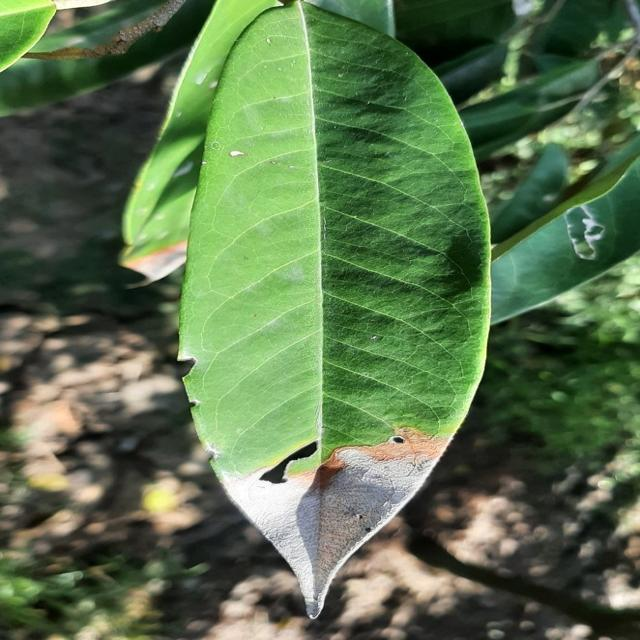Leaf Blight: (160, 4, 510, 628)
